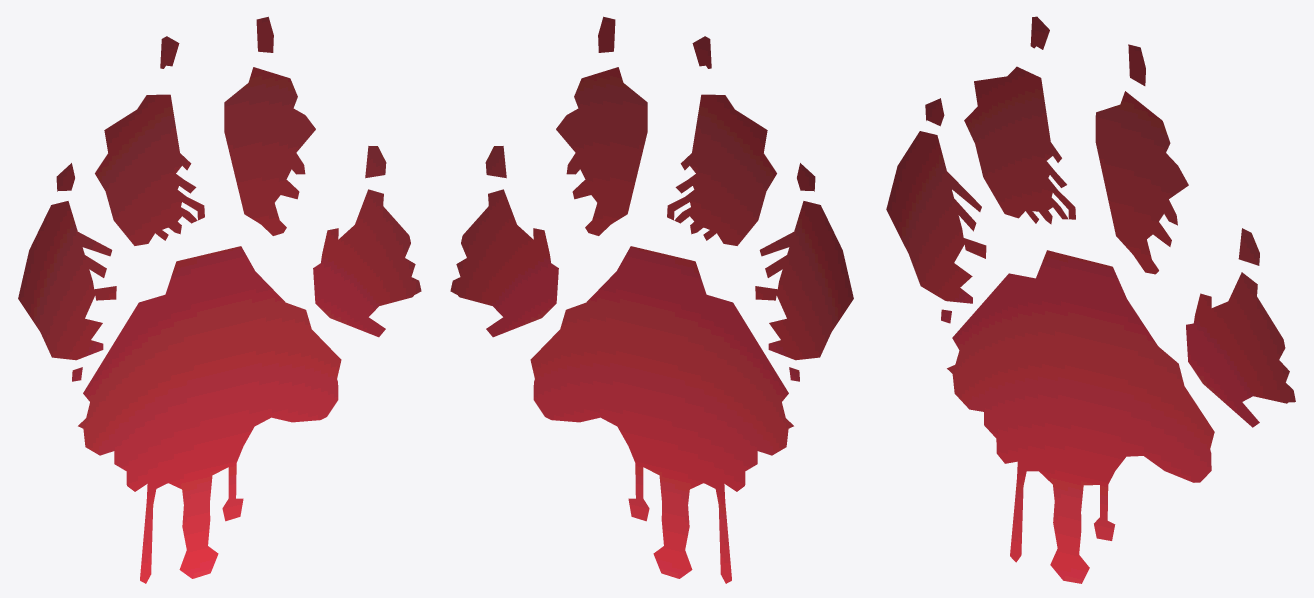
Rendered from ps2_save-icons_deadtorightsii.glb.
3 views of the same model, side by side, from view 1: azimuth 30°, elevation 25°; view 2: azimuth 150°, elevation 25°; view 3: azimuth 330°, elevation 25° (orthographic).
Visible parts, largest first — view 1: static.icn; view 2: static.icn; view 3: static.icn.
Boxes of the visible parts, x1=… form: static.icn: x1=18, y1=16, x2=421, y2=583; static.icn: x1=450, y1=16, x2=853, y2=583; static.icn: x1=886, y1=16, x2=1295, y2=583.
Bounding box in the file's own units: 3.41 × 4.43 × 0.0535.
1 material, 1 textured.
